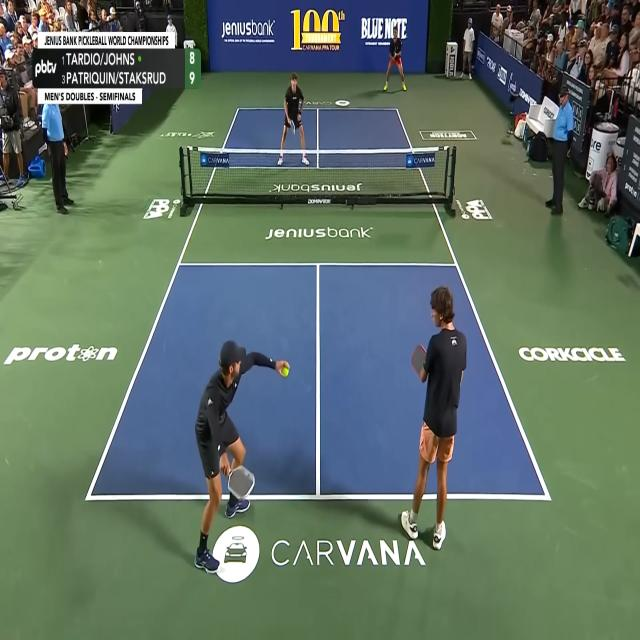ball: (282, 366, 289, 377)
